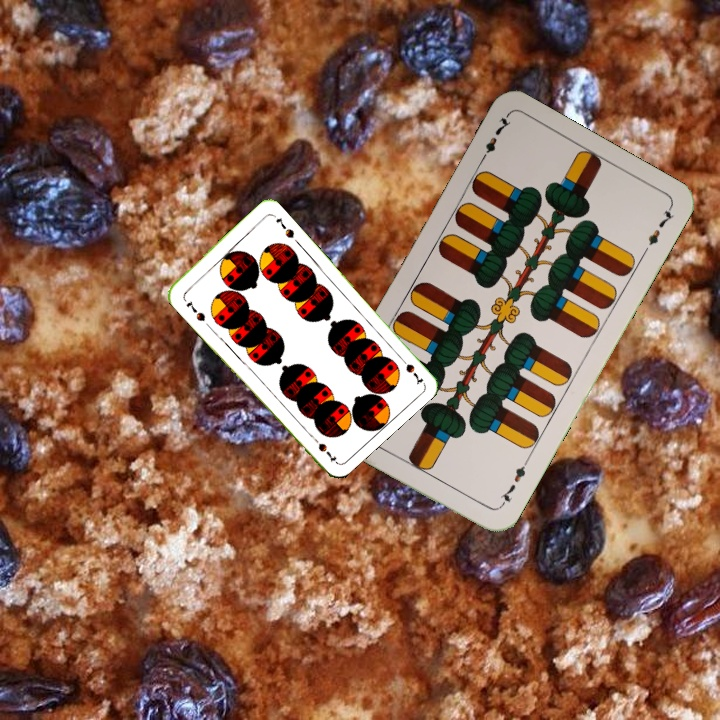E7: (476, 111, 514, 165), (495, 456, 531, 510)
S7: (394, 352, 425, 387), (181, 297, 208, 324)
